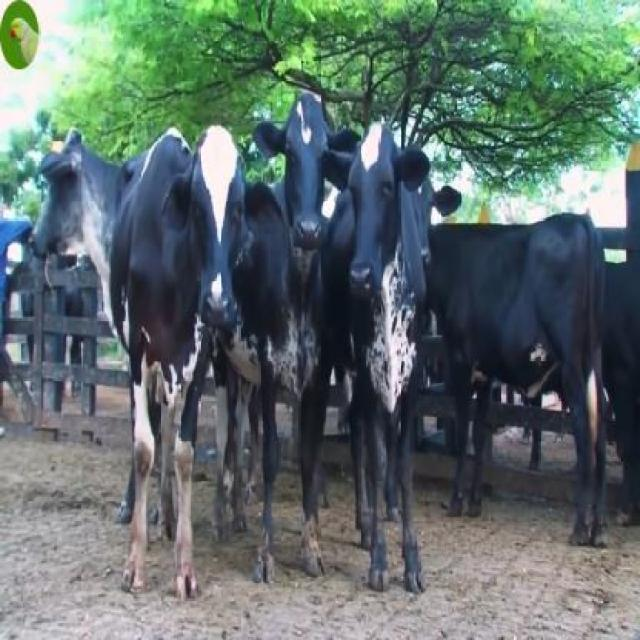Cow: (109, 120, 248, 605), (242, 93, 340, 584), (332, 126, 426, 600)
